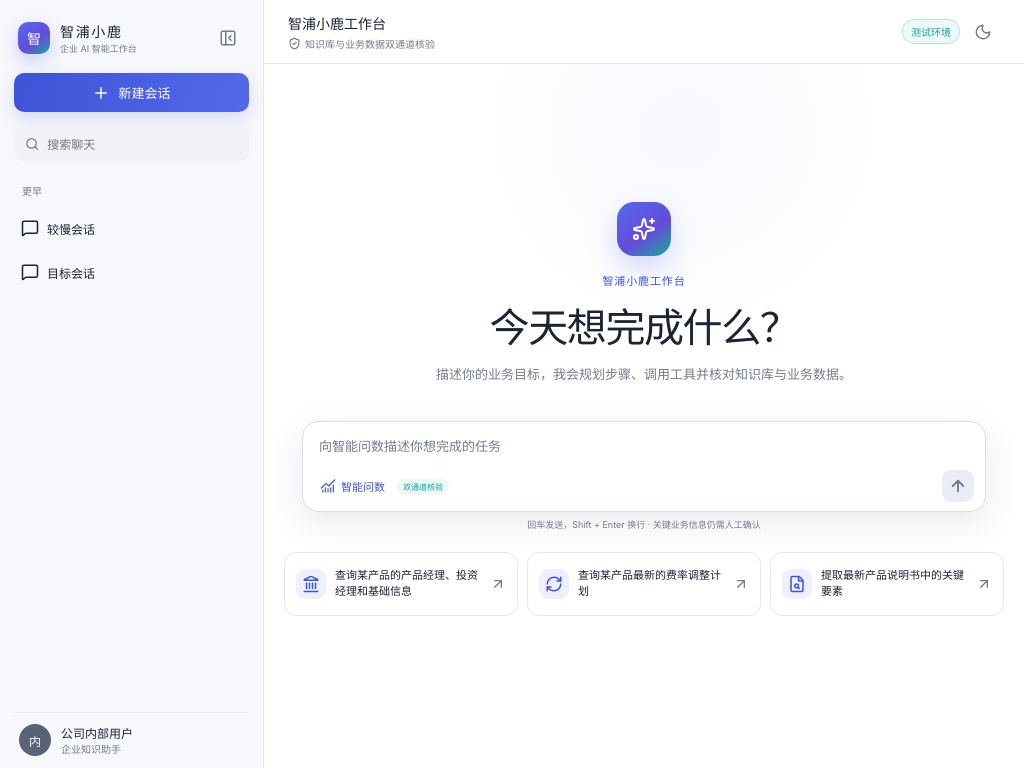
App › 切换会话期间禁用提交并忽略过期的消息响应
Click the button "较慢会话" at (117, 228), box x1=14 y1=211 x2=220 y2=245
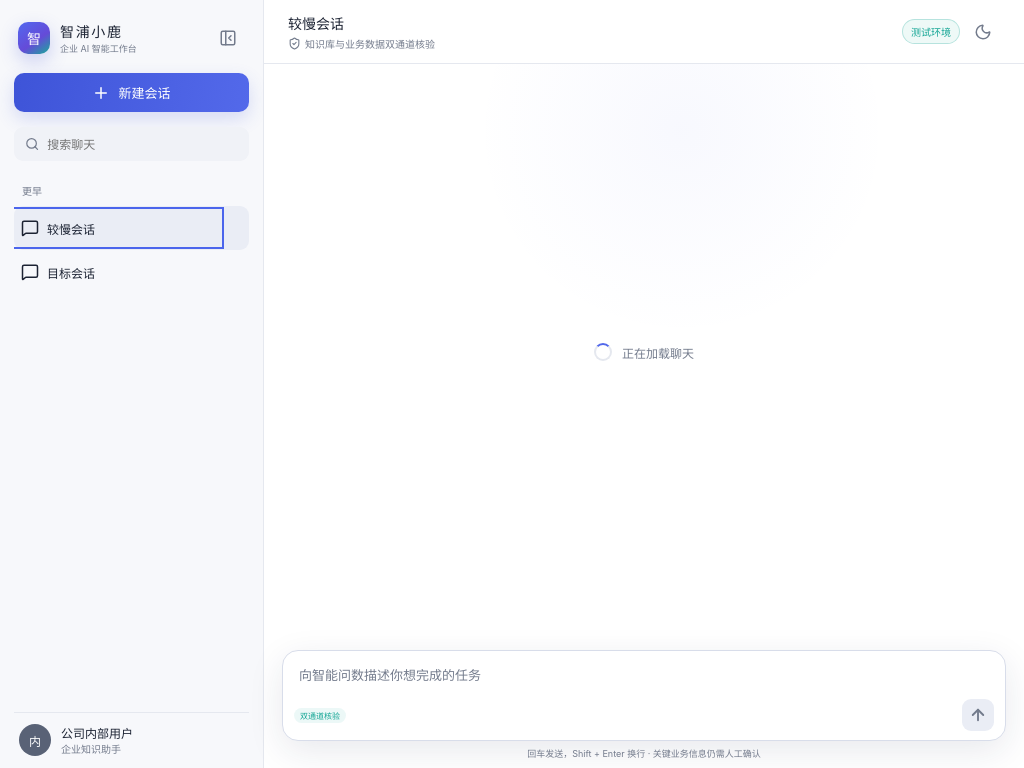
Expected: the message reads "正在加载聊天", x1=622 y1=346 x2=694 y2=360
Expected: the text box named "输入问题" is disabled, x1=294 y1=660 x2=994 y2=698
Click the button "目标会话" at (117, 272), box x1=14 y1=255 x2=220 y2=289
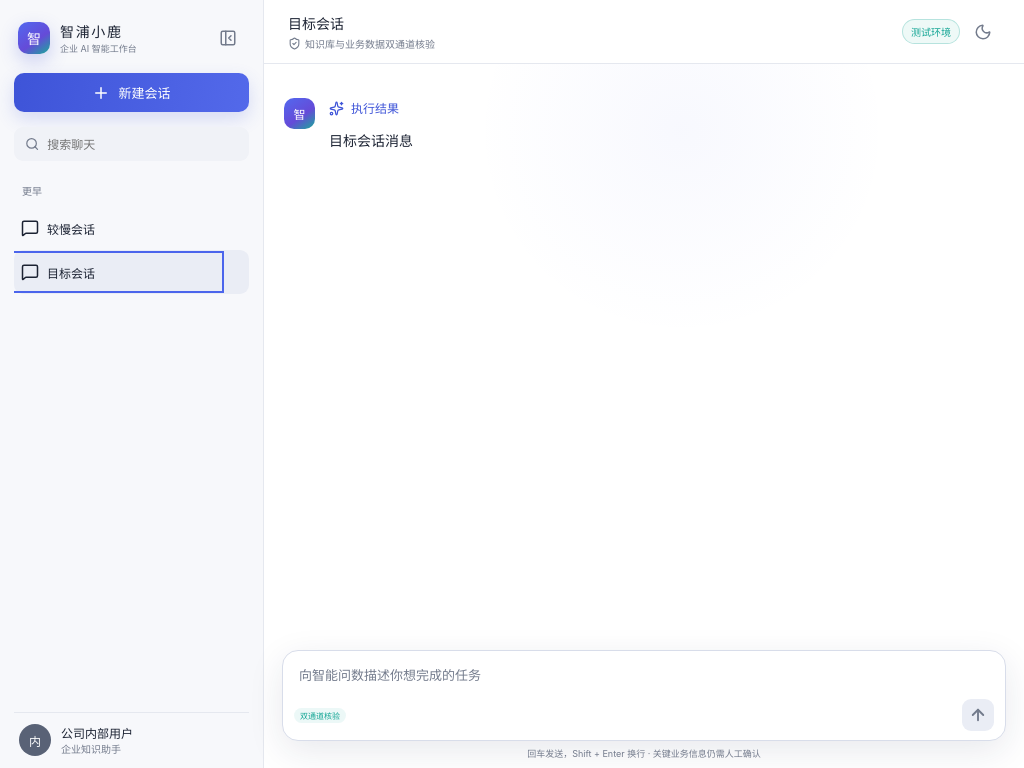
Expected: the text "目标会话消息" is shown, x1=329 y1=132 x2=413 y2=149
